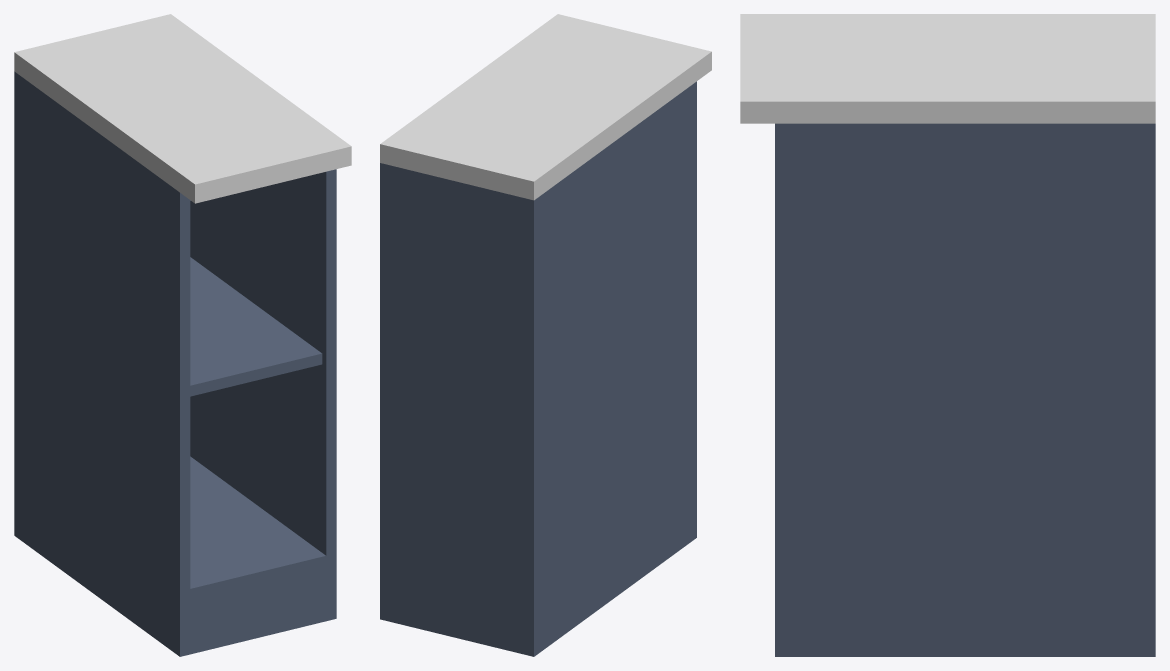
Rendered from Kitchen1_C4_04.fbx.
The picture shows the model from 3 angles, left to right: view 1: azimuth 30°, elevation 25°; view 2: azimuth 150°, elevation 25°; view 3: azimuth 270°, elevation 25°; orthographic projection. The views are drawn at different scales.
Parts seen in each view (by area): view 1: Kitchen1_C4_04; view 2: Kitchen1_C4_04; view 3: Kitchen1_C4_04.
Part boxes in pixels (x1=…): Kitchen1_C4_04: x1=14, y1=14, x2=351, y2=656; Kitchen1_C4_04: x1=380, y1=14, x2=711, y2=656; Kitchen1_C4_04: x1=740, y1=14, x2=1155, y2=656.
Bounding box in the file's own units: 30 × 88.5 × 60.
